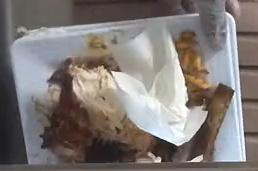chicken: (35, 54, 176, 162)
fries: (175, 31, 211, 99)
